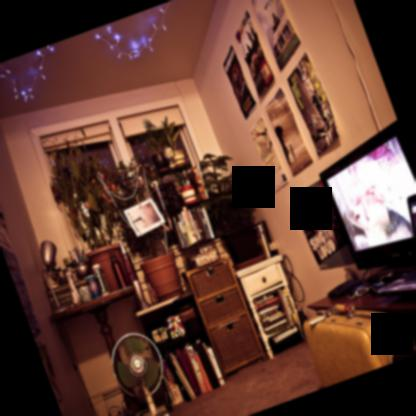suitcase: (301, 303, 410, 388)
